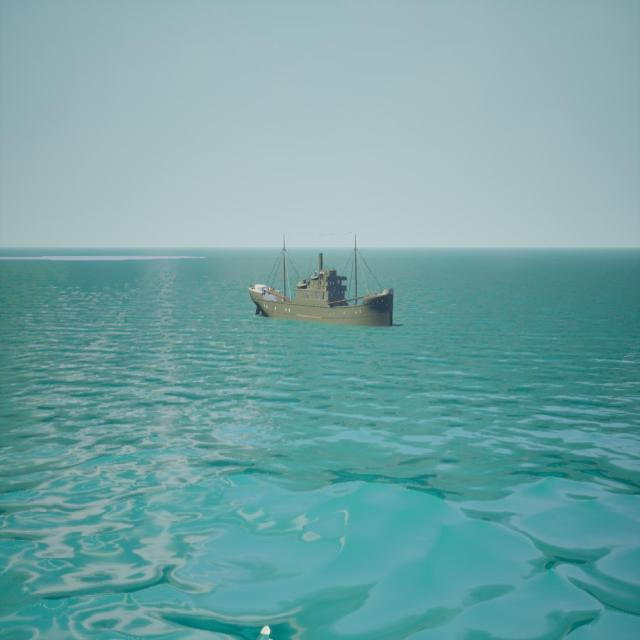fishing ship: (250, 235, 396, 329)
